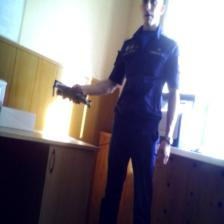drone: (48, 74, 98, 112)
